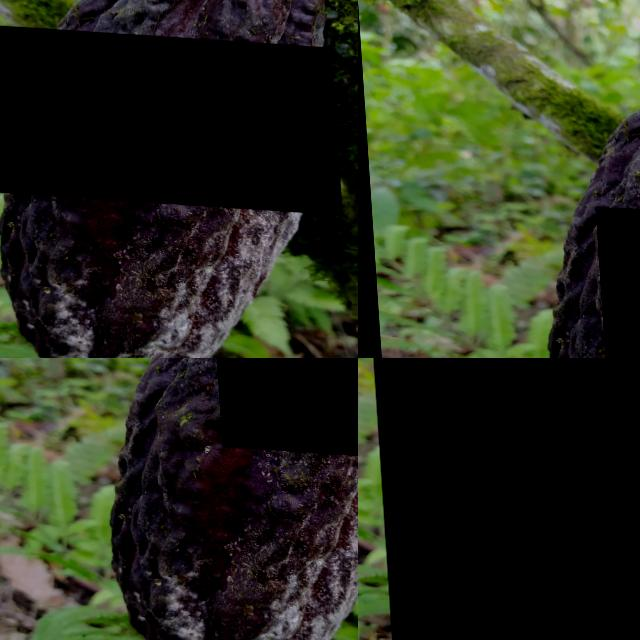Fitoftora: (358, 358, 640, 640)
Monilia: (0, 17, 337, 208), (213, 358, 358, 454), (592, 203, 640, 358)
Sana: (444, 239, 486, 289), (336, 531, 358, 564), (425, 205, 442, 240), (381, 156, 396, 185)
